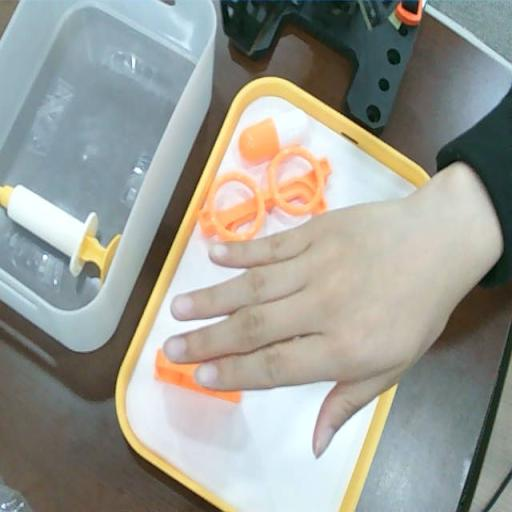hospital: (150, 157, 507, 464)
